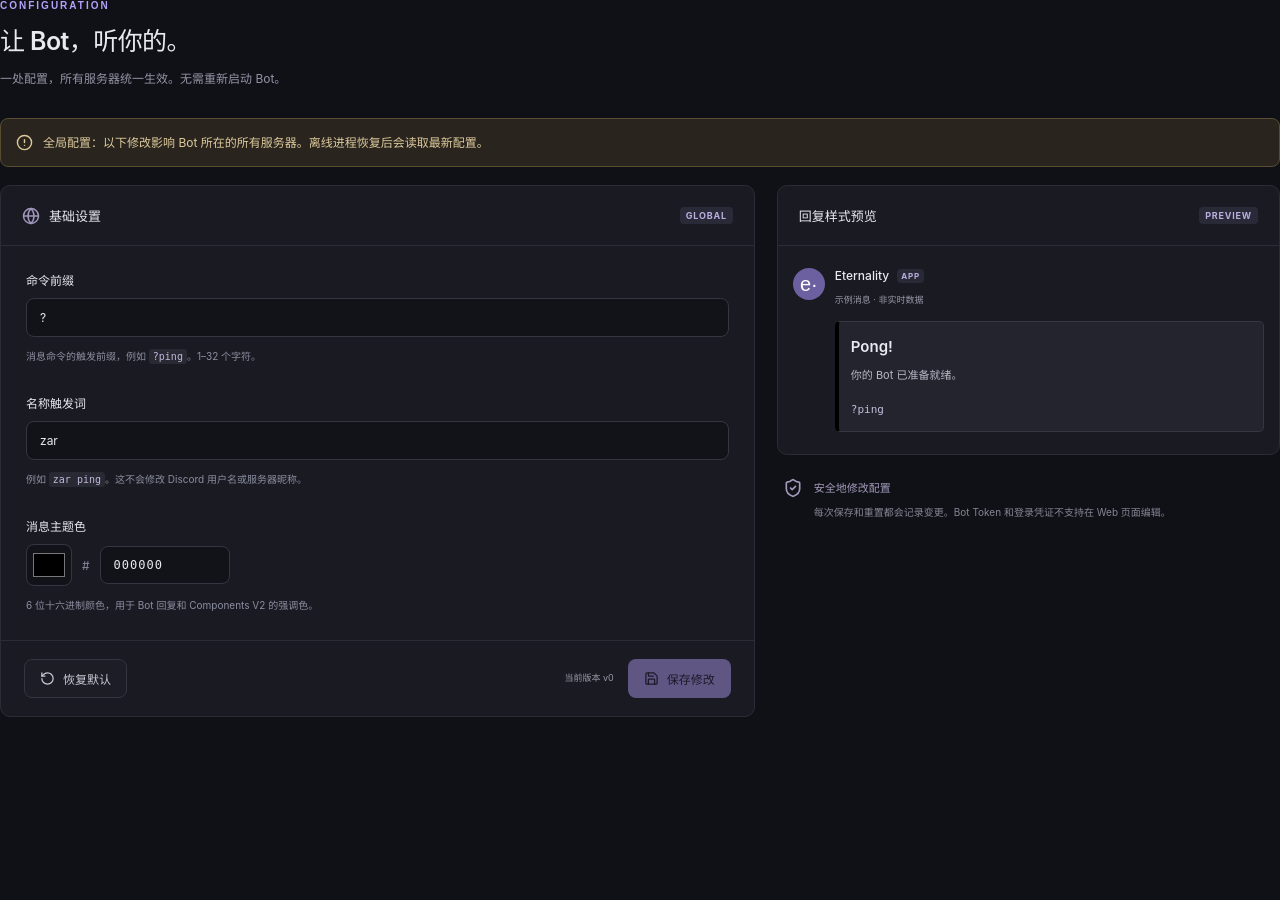
owner console › retains edits and requires reload after a version conflict
Type "!" into the field labelled "命令前缀" at (377, 318), box x1=26 y1=298 x2=729 y2=337
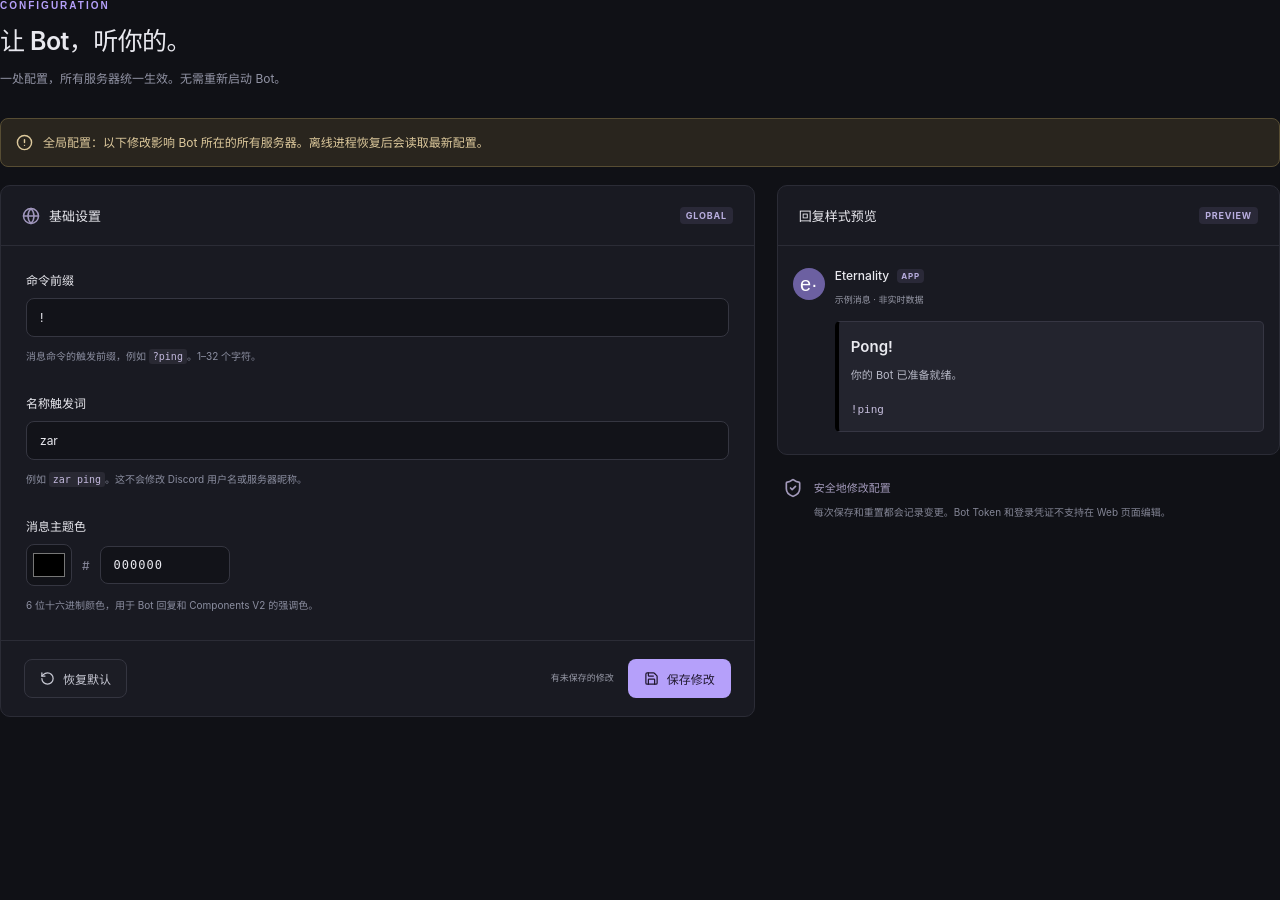
Click the button "保存修改" at (679, 679), box x1=628 y1=659 x2=731 y2=698
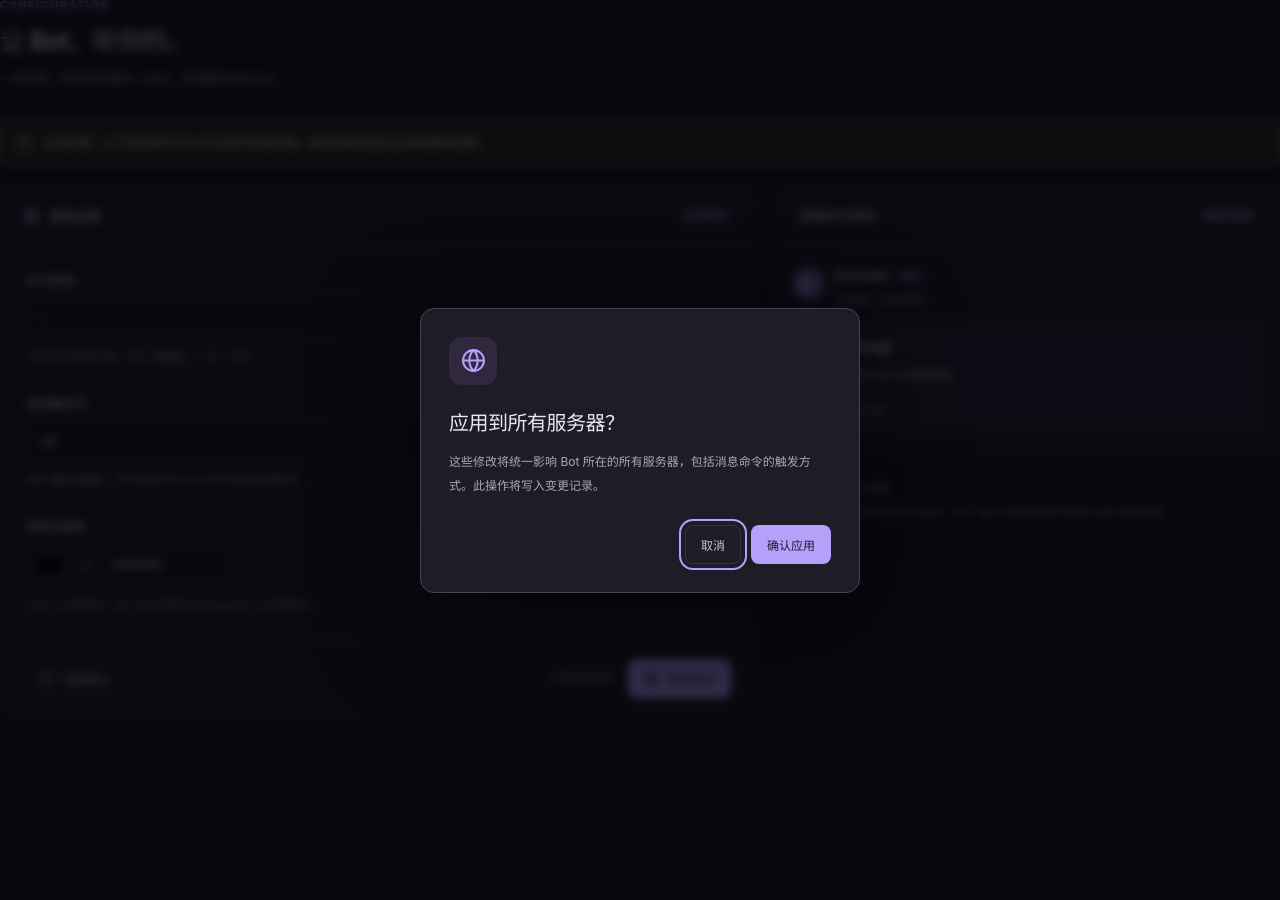
Click the button "确认应用" at (791, 544), box x1=751 y1=524 x2=831 y2=564
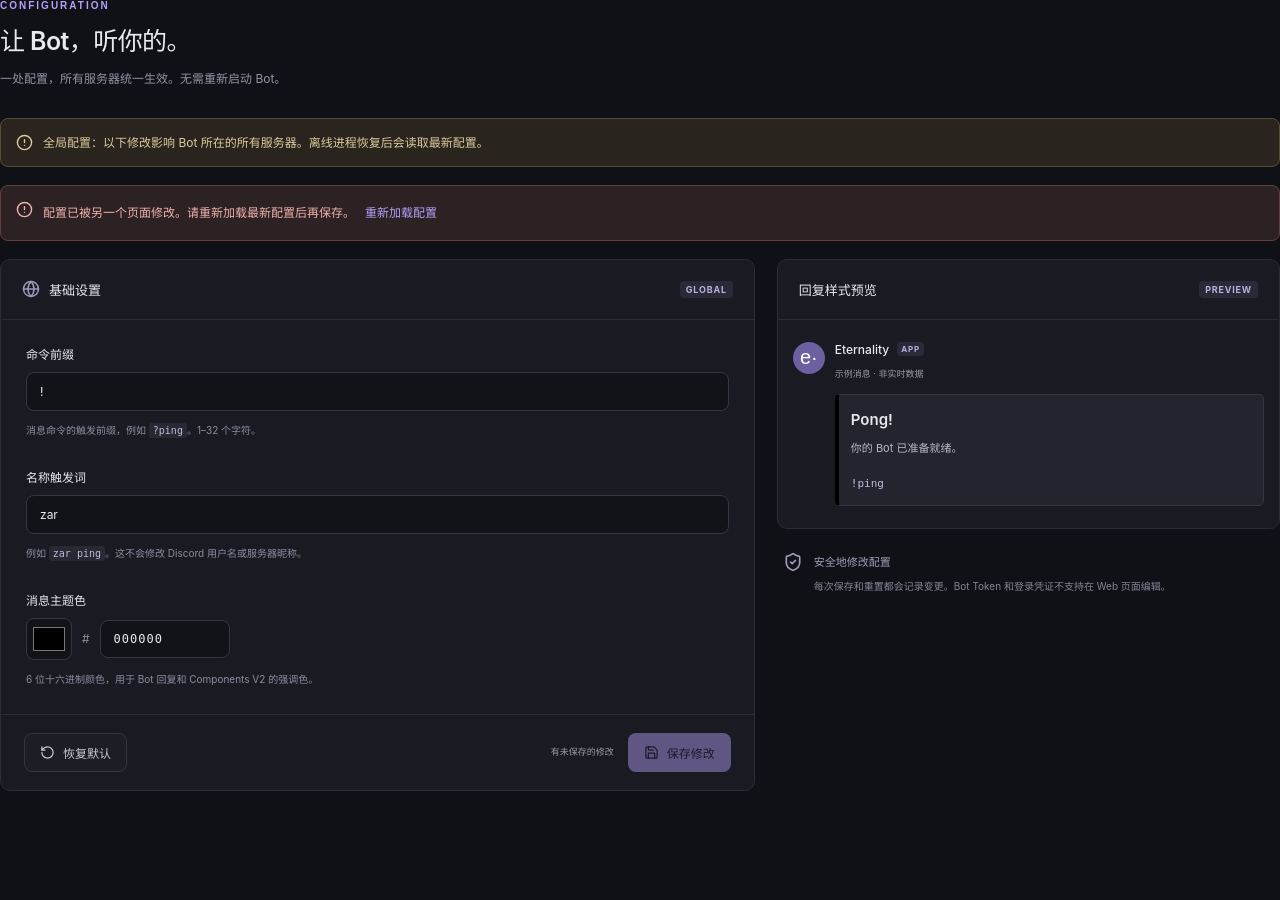
Check: the text "配置已被另一个页面修改。请重新加载最新配置后再保存。 重新加载配置" is shown, box x1=43 y1=199 x2=437 y2=227
Check: the button "保存修改" is disabled, box x1=628 y1=733 x2=731 y2=772
Check: the button "重新加载配置" is shown, box x1=365 y1=199 x2=437 y2=227
